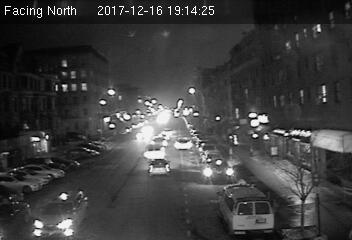car: (32, 191, 91, 238), (202, 159, 237, 185), (147, 159, 172, 177), (174, 136, 193, 150)
police: (216, 184, 274, 237)
